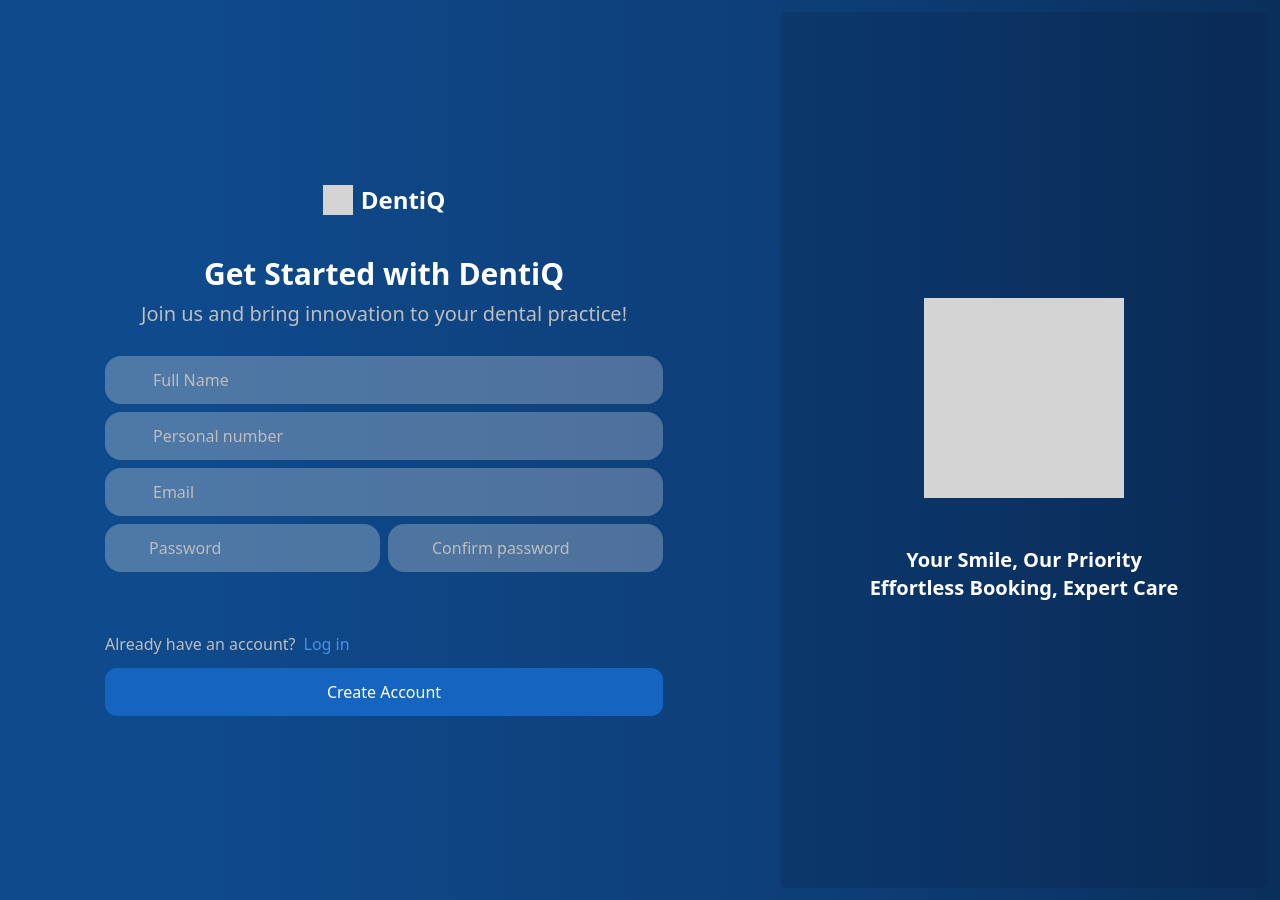
Scenario: SignupView.vue › shows validation error for invalid email format
Note: Set an invalid email
Type "invalid-email" into the field with placeholder "Email" at point(384, 492), box [105,468,663,516]
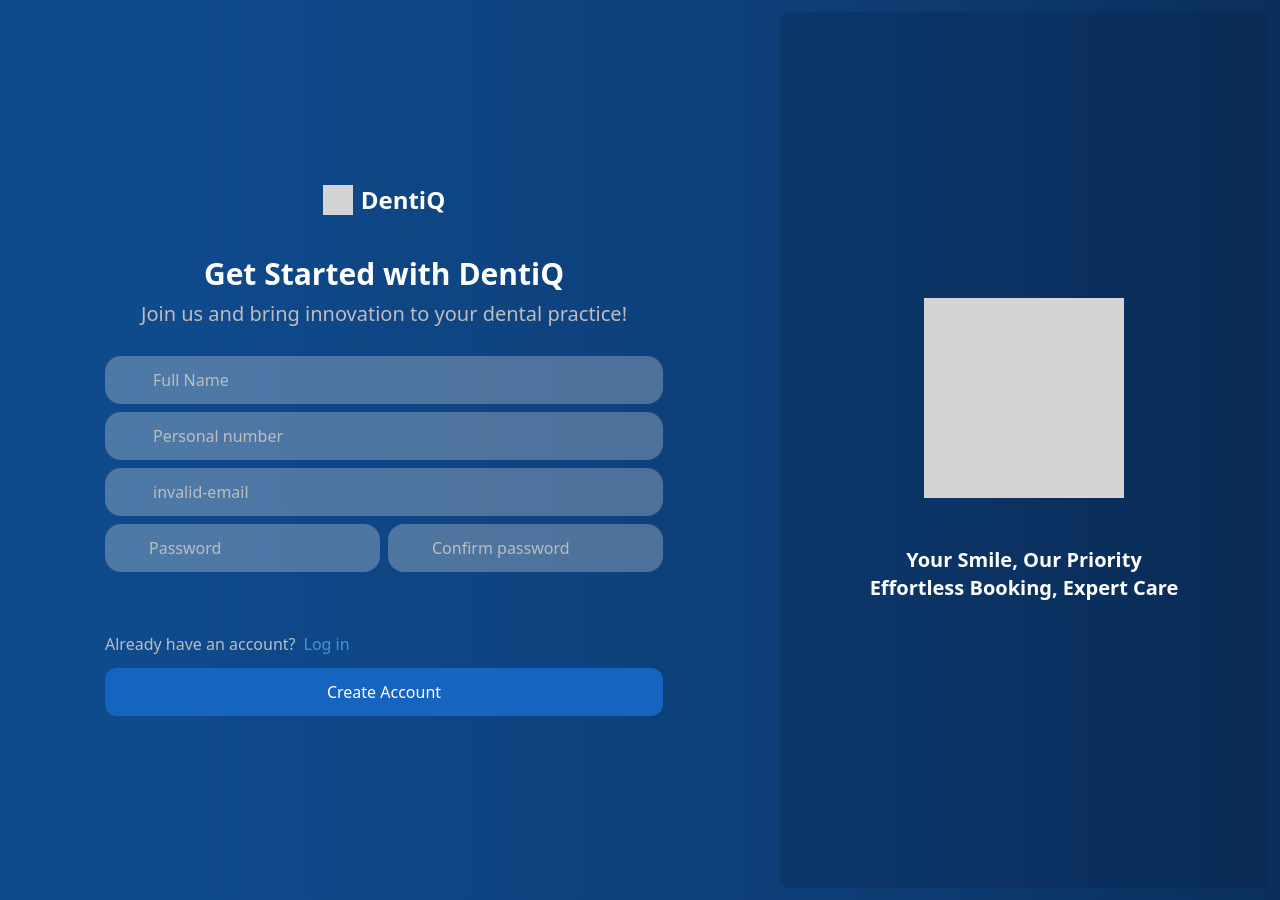
Note: Trigger form submission
Submit the form, box [69,356,699,604]
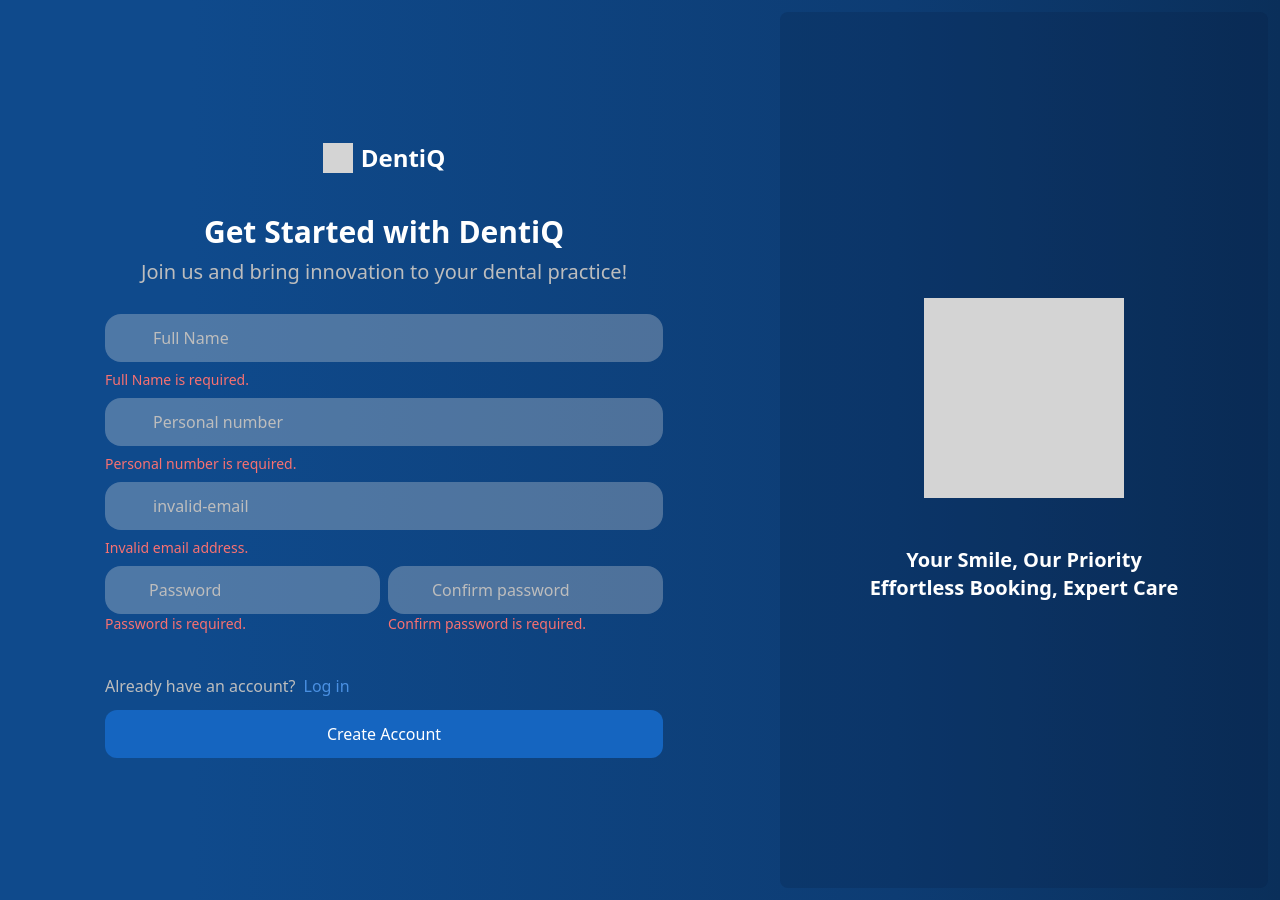
Check: the text "Invalid email address." is shown, box [105,538,248,557]
